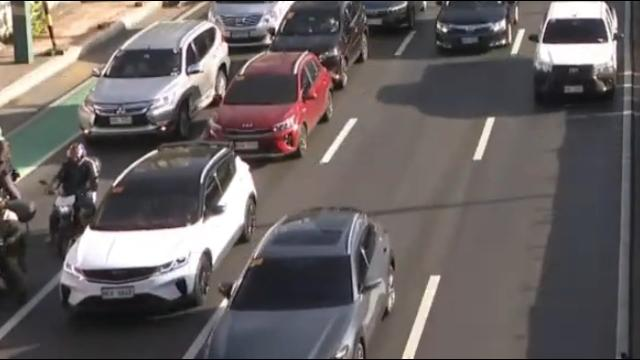car: (59, 142, 258, 318), (200, 207, 398, 360), (75, 21, 230, 142), (204, 52, 333, 158), (255, 0, 378, 85), (434, 1, 520, 51), (360, 0, 430, 32)
motorcycle: (43, 142, 99, 259), (0, 200, 36, 319), (0, 148, 31, 209)
pickup-truck: (531, 0, 621, 106)
van: (205, 1, 295, 46)
